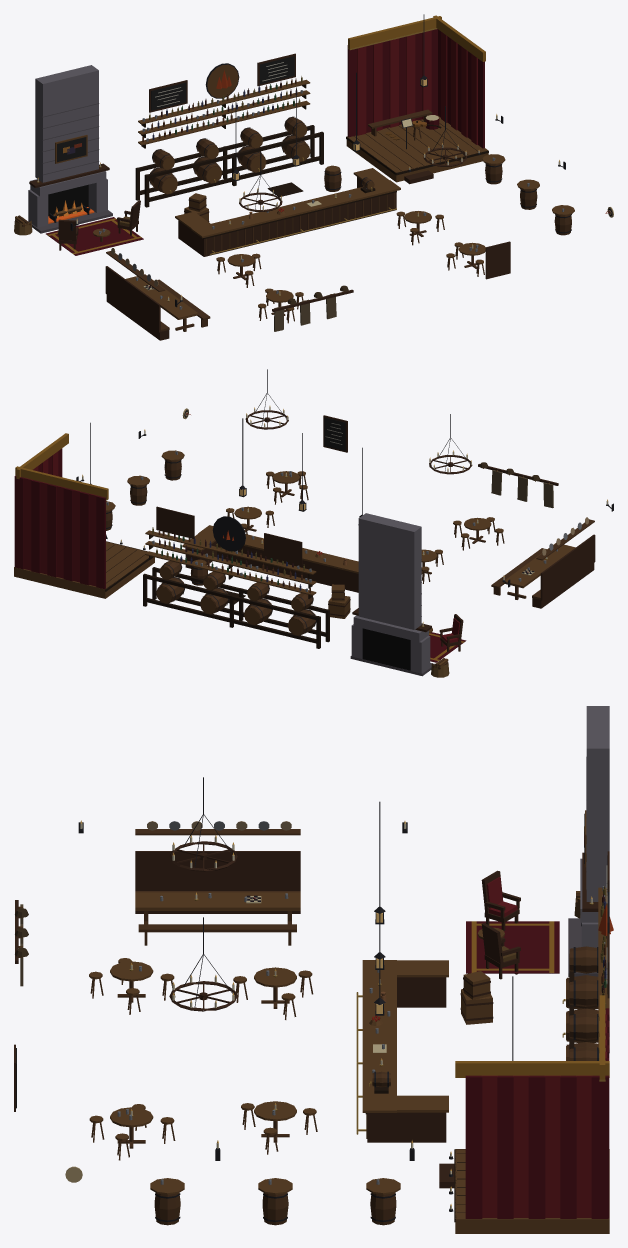
Rendered from cinder-keg.glb.
3 views of the same model, one above another, from view 1: azimuth 30°, elevation 25°; view 2: azimuth 150°, elevation 25°; view 3: azimuth 270°, elevation 25° (orthographic). The views are drawn at different scales.
Parts seen in each view (by area): view 1: cinder-keg; view 2: cinder-keg; view 3: cinder-keg.
Part boxes in pixels (x1=…): cinder-keg: x1=14, y1=14, x2=613, y2=340; cinder-keg: x1=14, y1=369, x2=613, y2=677; cinder-keg: x1=14, y1=706, x2=613, y2=1233.
Bounding box in the file's own units: 21.59 × 6.82 × 16.68.
